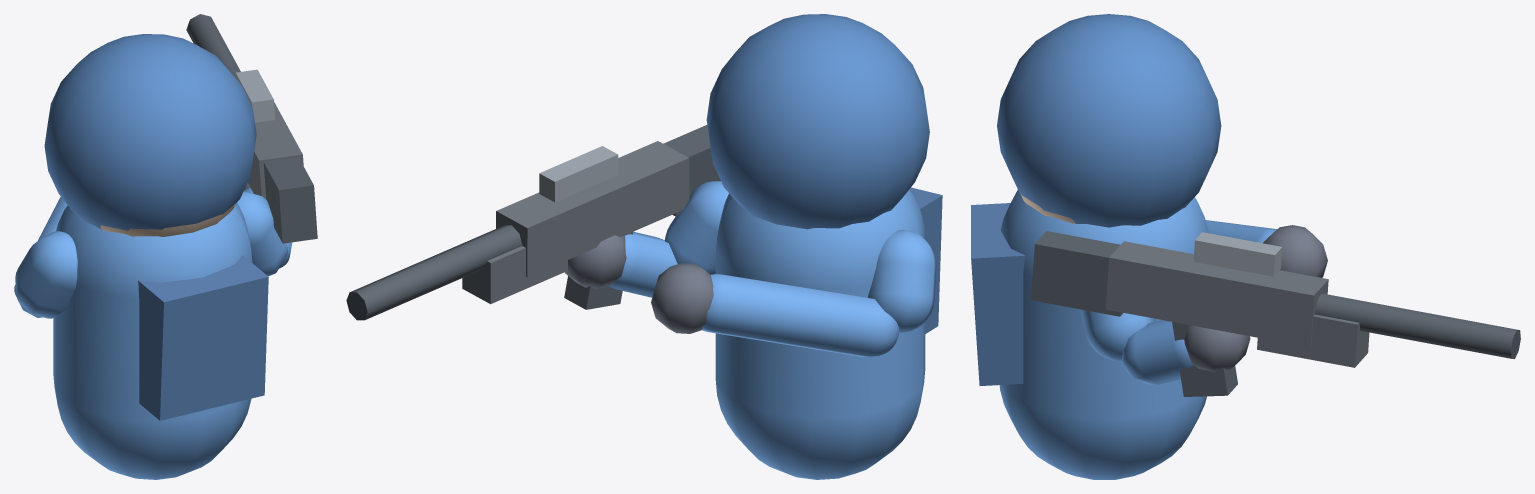
File: blue_body.glb
The picture shows the model from 3 angles, left to right: view 1: azimuth 30°, elevation 25°; view 2: azimuth 150°, elevation 25°; view 3: azimuth 270°, elevation 25°; orthographic projection. The views are drawn at different scales.
Visible parts, largest first — view 1: blue_body; view 2: blue_body; view 3: blue_body.
Boxes of the visible parts, x1,y1,x2,y2 form: blue_body: (14, 14, 317, 479); blue_body: (346, 14, 942, 479); blue_body: (971, 14, 1520, 479).
Bounding box in the file's own units: 0.9716 × 1.05 × 1.17.
